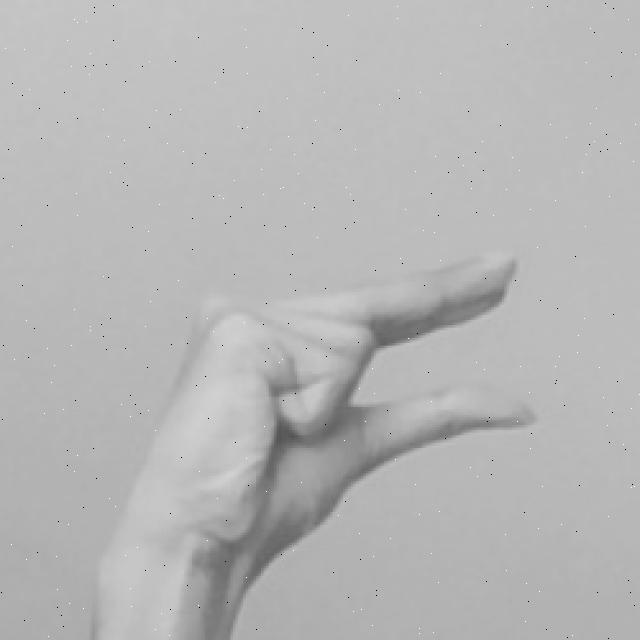G: (86, 247, 542, 640)
